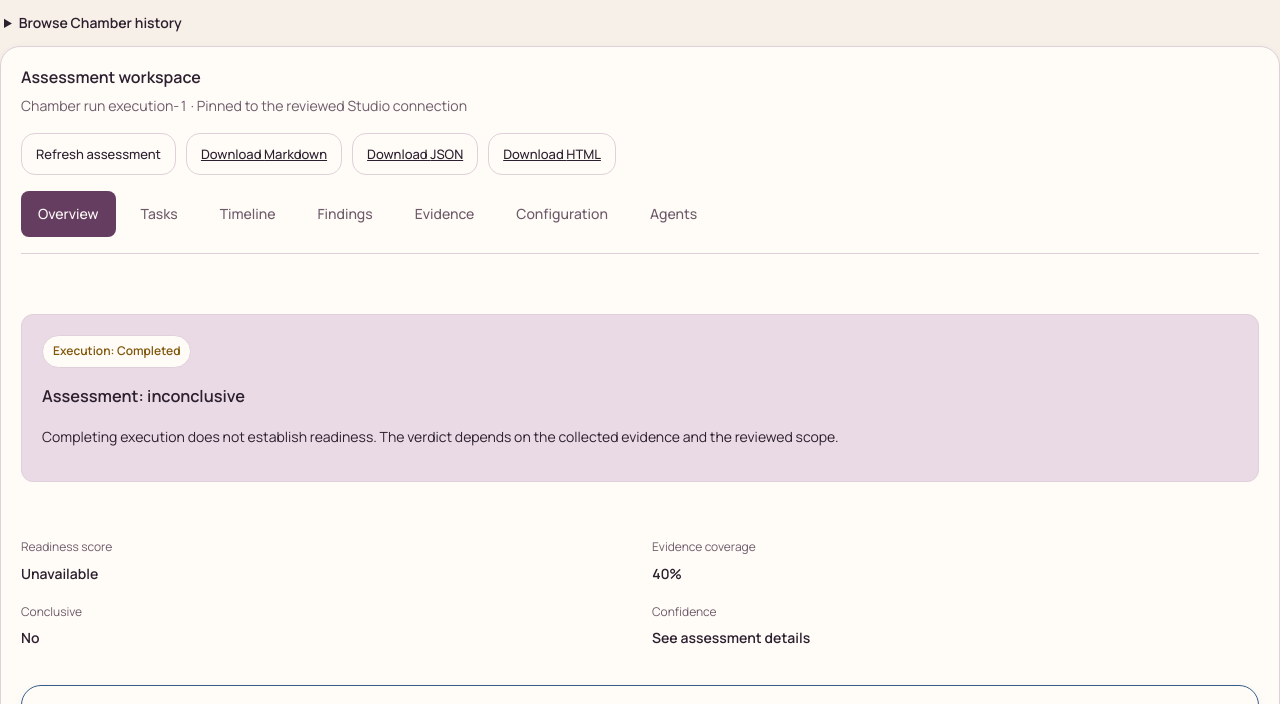
native results › pages beyond the bounded preview and keeps exact task IDs and duration
Expected: the heading "Assessment: inconclusive" is shown, [42, 385, 245, 407]
Click the button "Tasks" at (159, 214), box [124, 191, 195, 237]
(page scrolled)
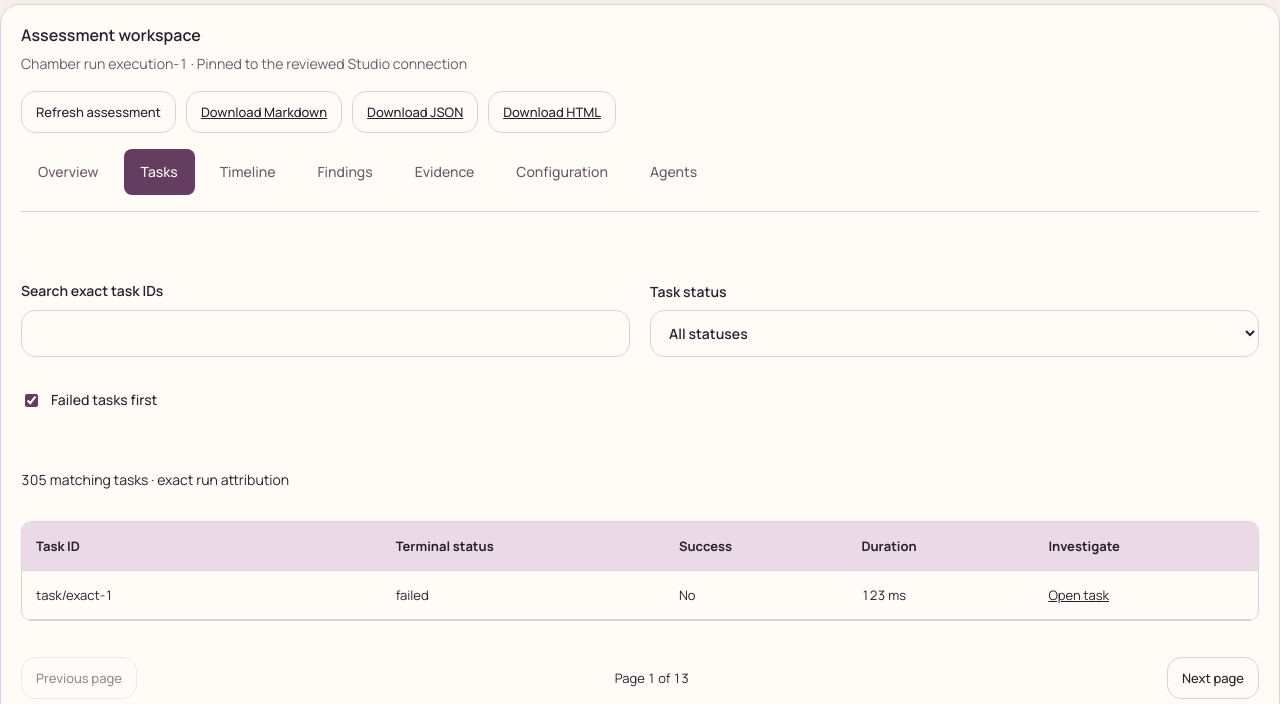
Expected: the text "task/exact-1" is shown, [36, 586, 113, 604]
Expected: the text "123 ms" is shown, [847, 570, 1034, 620]
Click the button "Next page" at (1213, 678), box [1167, 657, 1259, 699]
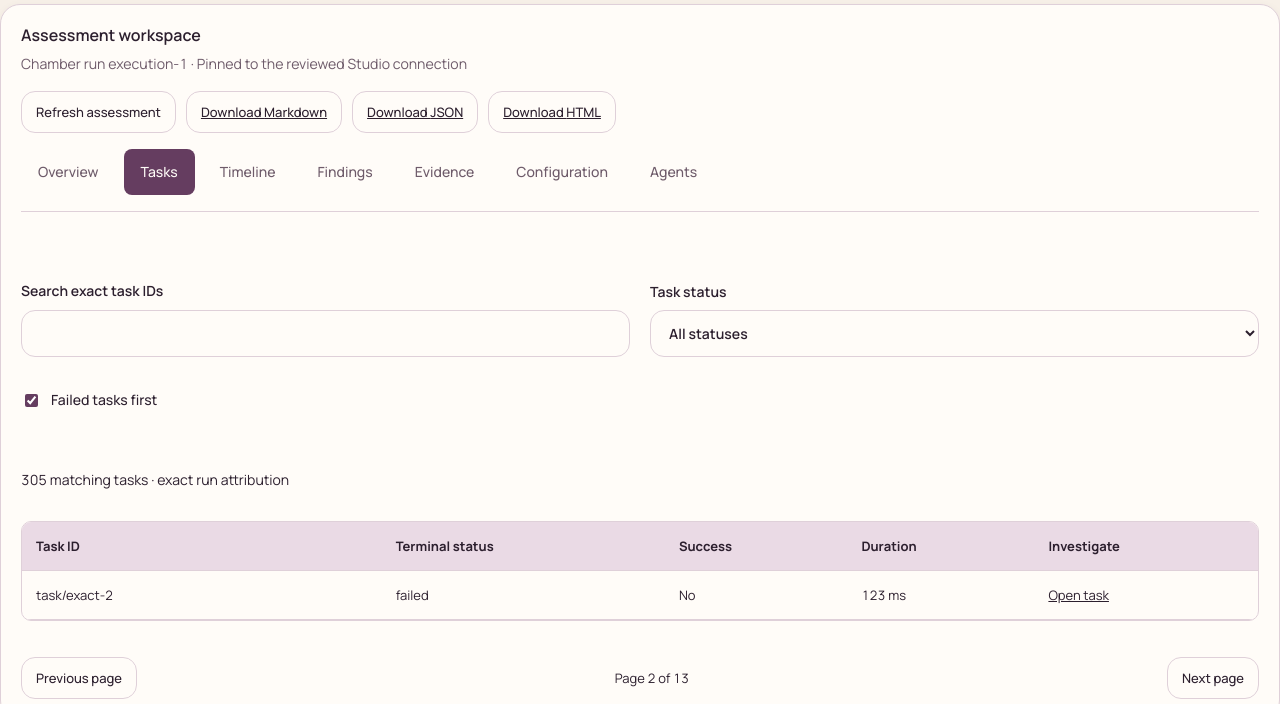
Expected: the text "task/exact-2" is shown, [36, 586, 113, 604]
